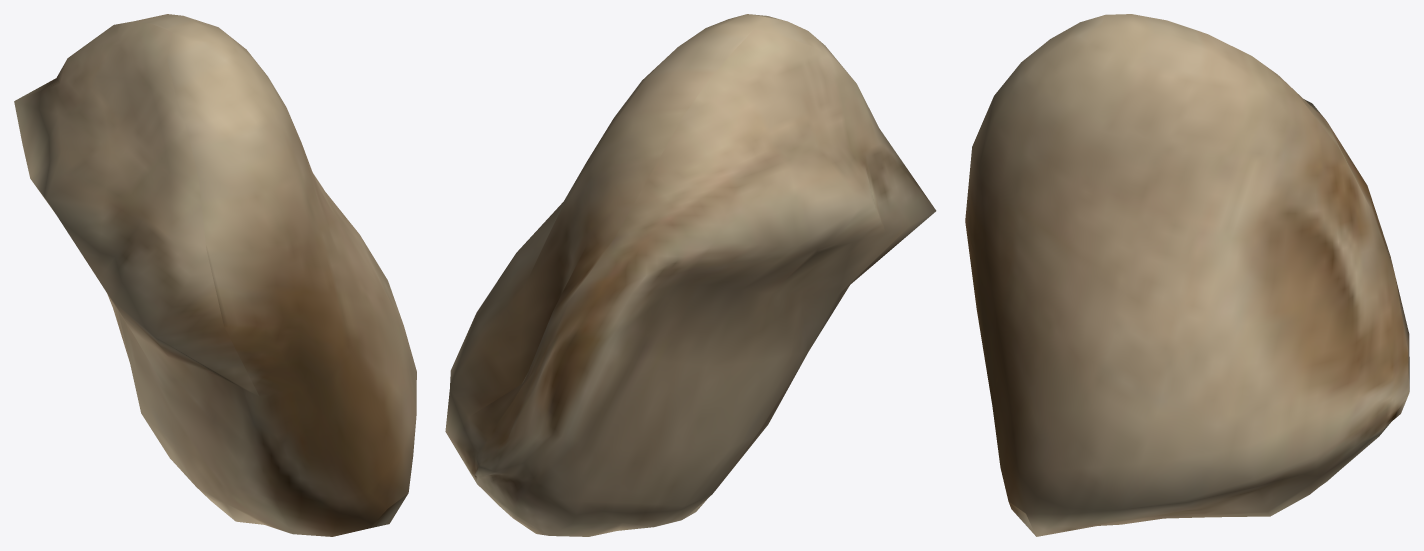
The model's file is Maxilary_Molar1.glb.
3 views of the same model, side by side, from view 1: azimuth 30°, elevation 25°; view 2: azimuth 150°, elevation 25°; view 3: azimuth 270°, elevation 25° (orthographic). The views are drawn at different scales.
Parts seen in each view (by area): view 1: Molar5; view 2: Molar5; view 3: Molar5.
Part boxes in pixels (box(x1,y1,x2,y2)): Molar5: box(14, 14, 416, 536); Molar5: box(445, 14, 936, 536); Molar5: box(965, 14, 1409, 536).
Bounding box in the file's own units: 0.0181 × 0.0237 × 0.0207.
1 material, 1 textured.
